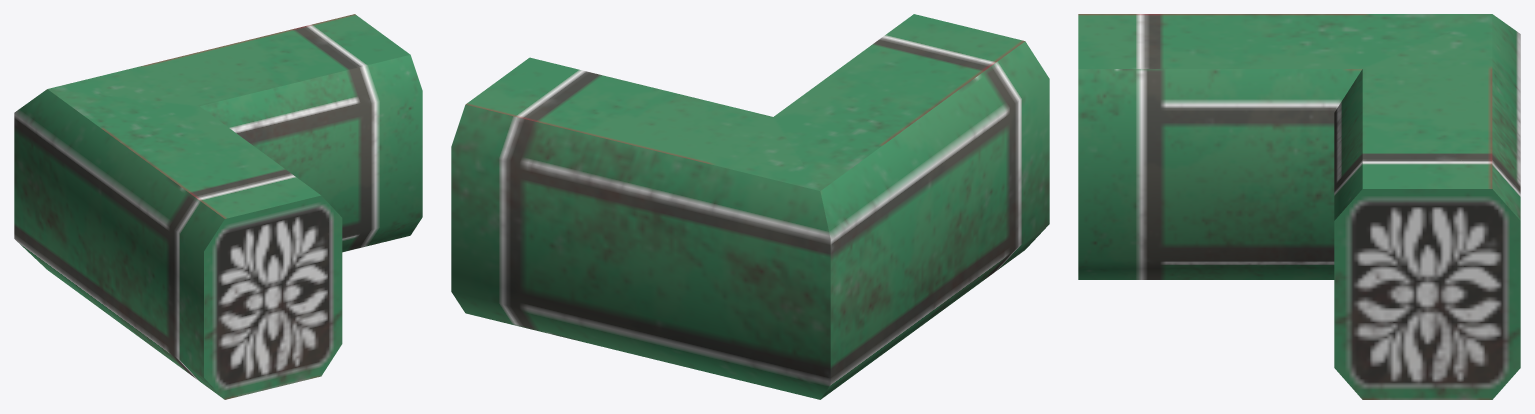
Rendered from SM_Lintel03f.fbx.
The picture shows the model from 3 angles, left to right: view 1: azimuth 30°, elevation 25°; view 2: azimuth 150°, elevation 25°; view 3: azimuth 270°, elevation 25°; orthographic projection. The views are drawn at different scales.
Visible parts, largest first — view 1: SM_Lintel03f; view 2: SM_Lintel03f; view 3: SM_Lintel03f.
Part boxes in pixels (x1=…): SM_Lintel03f: x1=14, y1=14, x2=422, y2=399; SM_Lintel03f: x1=451, y1=14, x2=1049, y2=399; SM_Lintel03f: x1=1078, y1=14, x2=1520, y2=399.
Size of the model in its own units: 38 by 38 by 20.
1 material, 1 textured.
